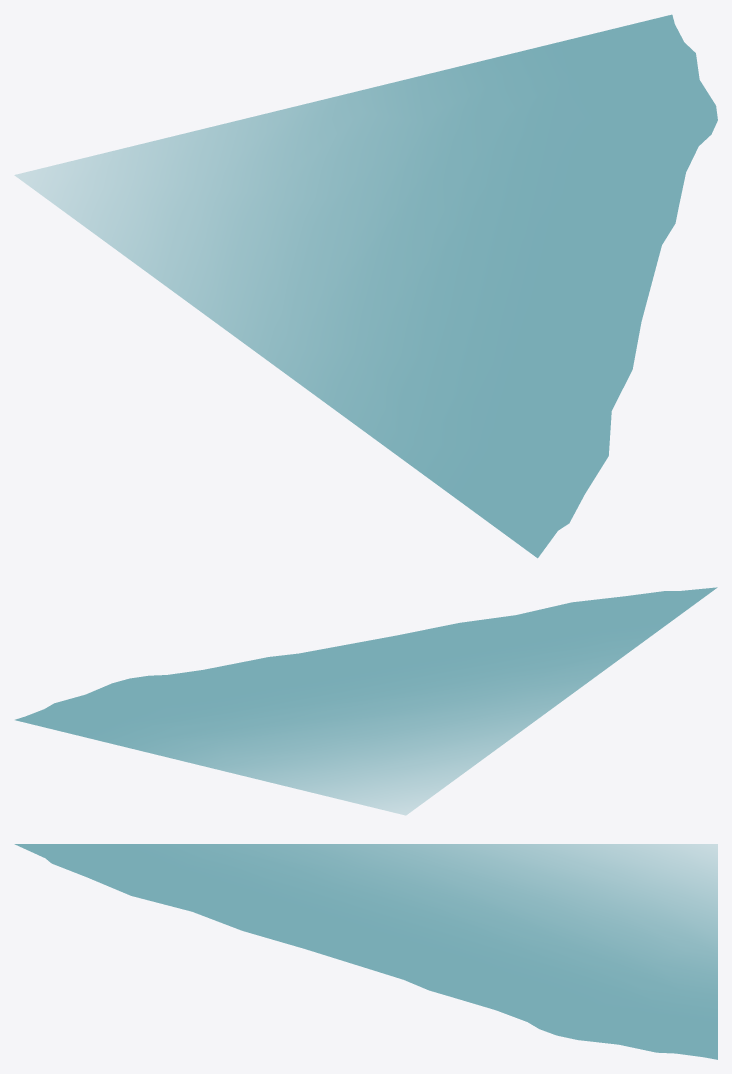
3 views of the same model, one above another, from view 1: azimuth 30°, elevation 25°; view 2: azimuth 150°, elevation 25°; view 3: azimuth 270°, elevation 25° (orthographic). The views are drawn at different scales.
Visible parts, largest first — view 1: city; view 2: city; view 3: city.
Part boxes in pixels (x1,y1,x2,y2): city: [14, 14, 717, 558]; city: [15, 587, 717, 815]; city: [14, 844, 717, 1059].
Bounding box in the file's own units: 329 × 0 × 453.
